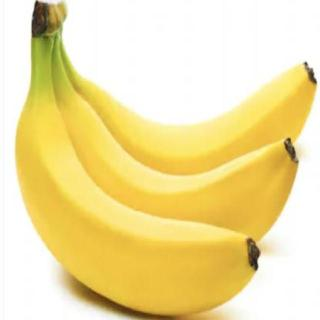banana: (15, 98, 261, 318), (48, 91, 300, 272), (66, 80, 318, 196)
